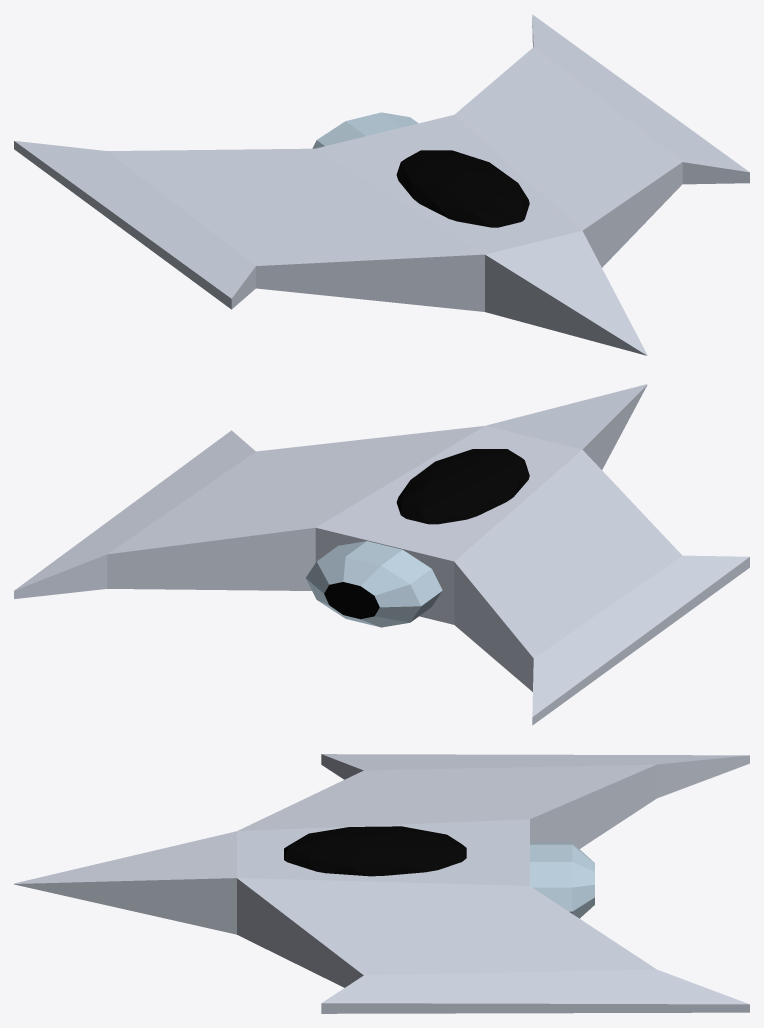
The model's file is spaceship.glb.
The picture shows the model from 3 angles, top to bottom: view 1: azimuth 30°, elevation 25°; view 2: azimuth 150°, elevation 25°; view 3: azimuth 270°, elevation 25°; orthographic projection.
Parts seen in each view (by area): view 1: Cube, Icosphere, Cylinder; view 2: Cube, Cylinder, Icosphere; view 3: Cube, Icosphere, Cylinder.
Boxes of the visible parts, x1,y1,x2,y2 form: Cube: (14,14,749,355); Icosphere: (396,150,529,227); Cylinder: (312,112,418,148); Cube: (14,384,749,725); Cylinder: (305,541,442,627); Icosphere: (396,449,529,524); Cube: (14,754,749,1013); Icosphere: (284,826,466,876); Cylinder: (530,842,594,918).
Size of the model in its own units: 10.63 by 1.58 by 13.28.
